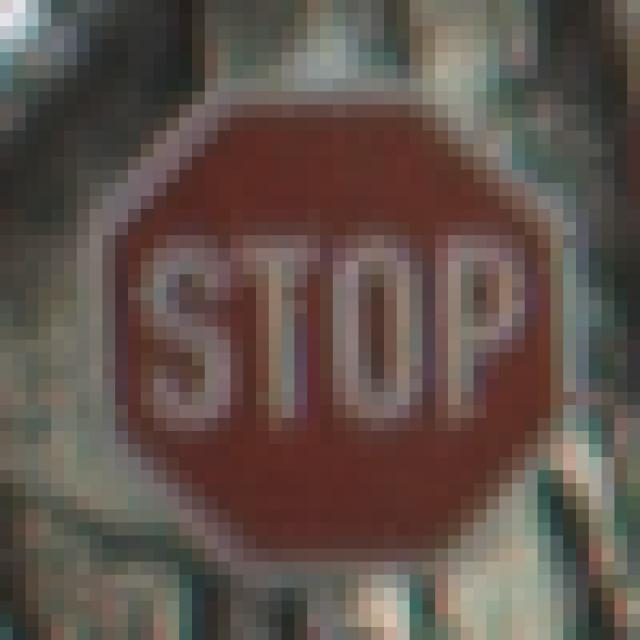STOP: (78, 66, 577, 576)
